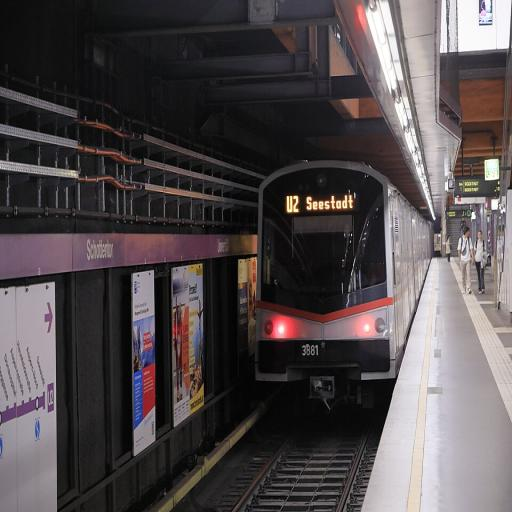V-Wagen: (254, 156, 433, 418)
